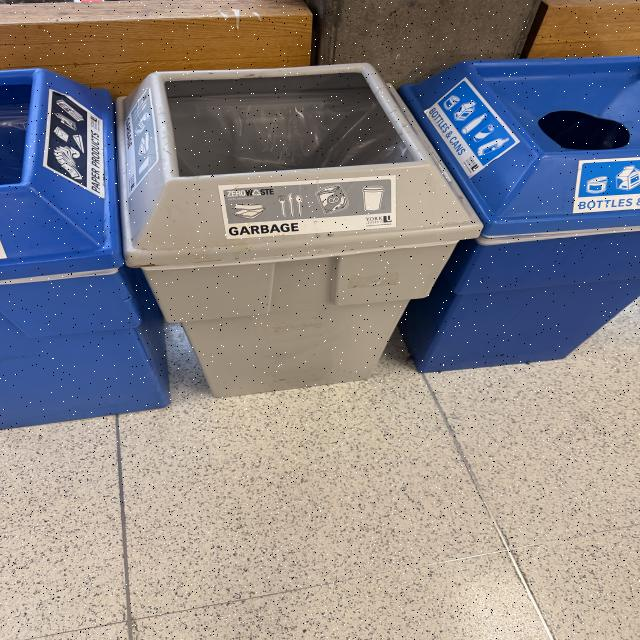Dustbin: (2, 53, 640, 434)
